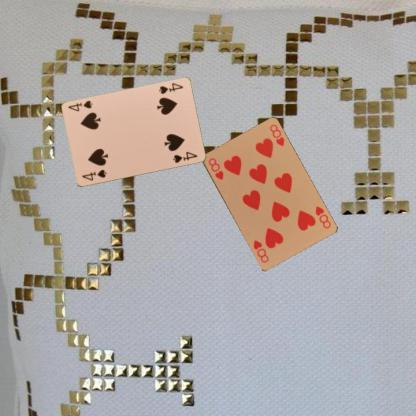4s: (156, 80, 184, 96), (79, 167, 108, 182)
8h: (312, 203, 332, 230), (206, 155, 224, 181)
